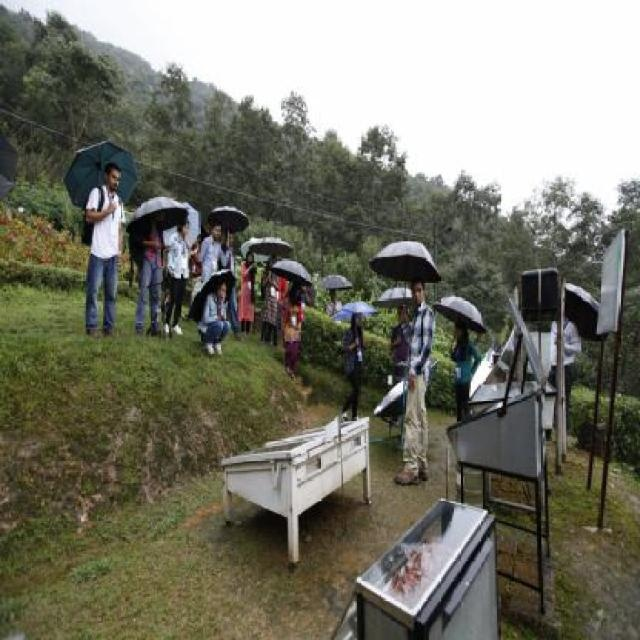obstacle: (82, 164, 482, 491), (548, 308, 584, 426)
